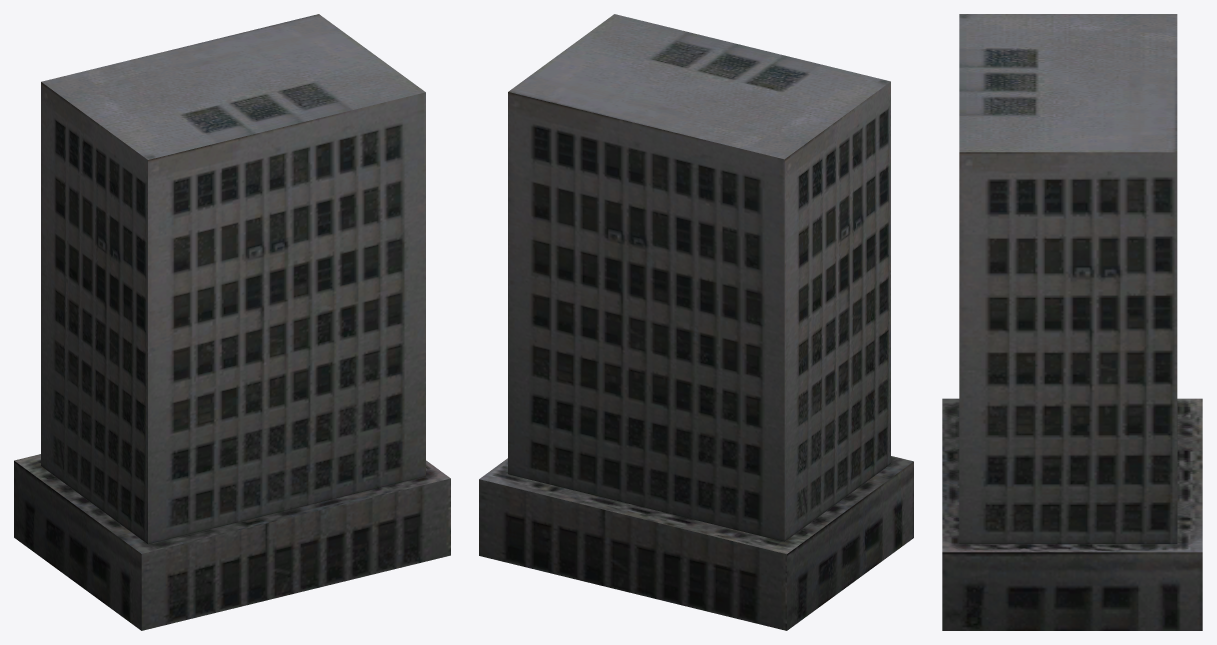
Rendered from Building3.gltf.
3 views of the same model, side by side, from view 1: azimuth 30°, elevation 25°; view 2: azimuth 150°, elevation 25°; view 3: azimuth 270°, elevation 25° (orthographic). The views are drawn at different scales.
Parts seen in each view (by area): view 1: Box04; view 2: Box04; view 3: Box04.
Part boxes in pixels (x1,y1,x2,y2): Box04: (14,14,450,630); Box04: (479,14,913,630); Box04: (942,14,1202,630).
Size of the model in its own units: 16.7 by 23.8 by 11.93.
1 material, 1 textured.
